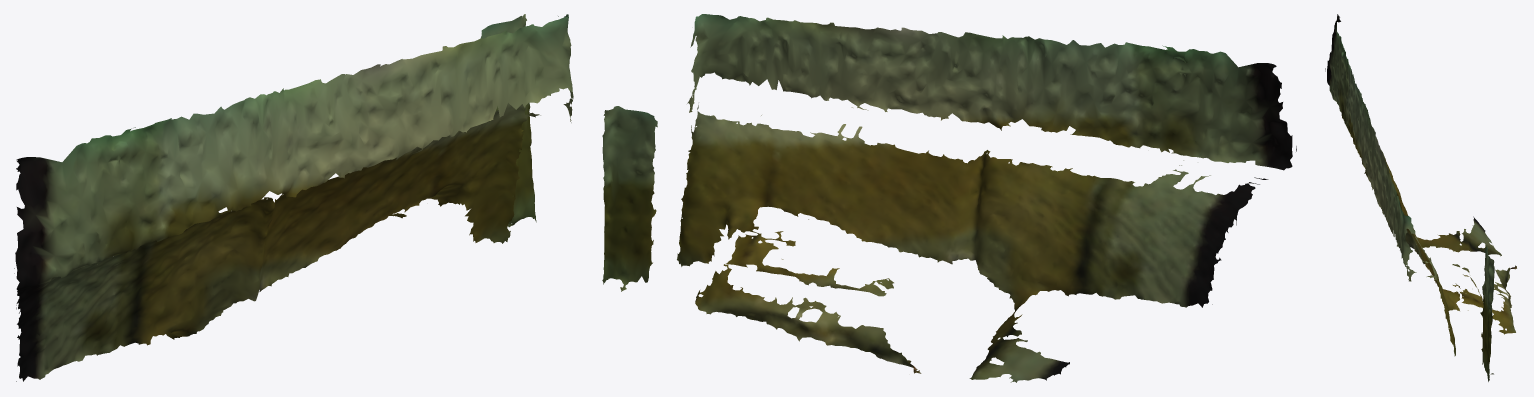
File: color_model_f001_20260205_111112.obj
The picture shows the model from 3 angles, left to right: view 1: azimuth 30°, elevation 25°; view 2: azimuth 150°, elevation 25°; view 3: azimuth 270°, elevation 25°; orthographic projection. The views are drawn at different scales.
Size of the model in its own units: 1.82 by 0.8361 by 0.7966.
